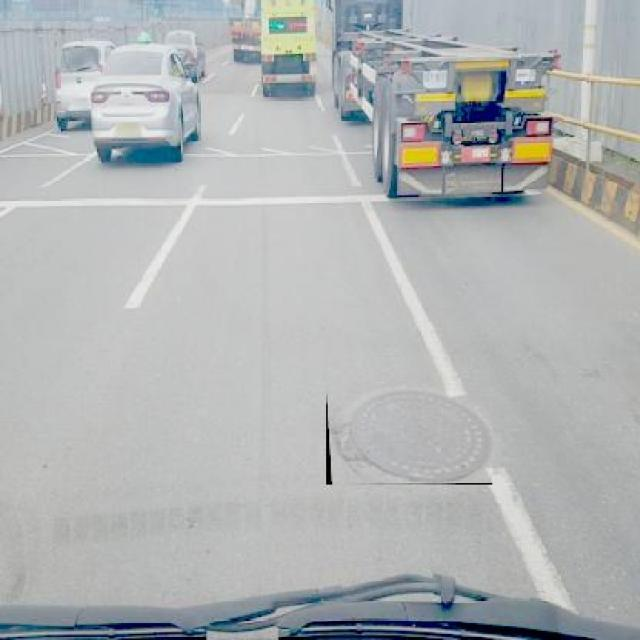Manhole: (326, 389, 492, 486)
